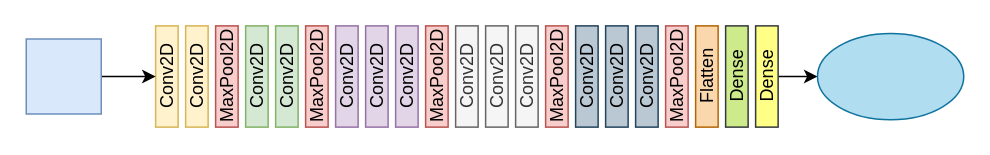
Image size: 990x155. Some labels were removed from this diagram. Here are the shapes that lost their labels. From the top down, the centre of each, then its label:
pixel 63 76: Image
pixel 890 76: class probabilities
